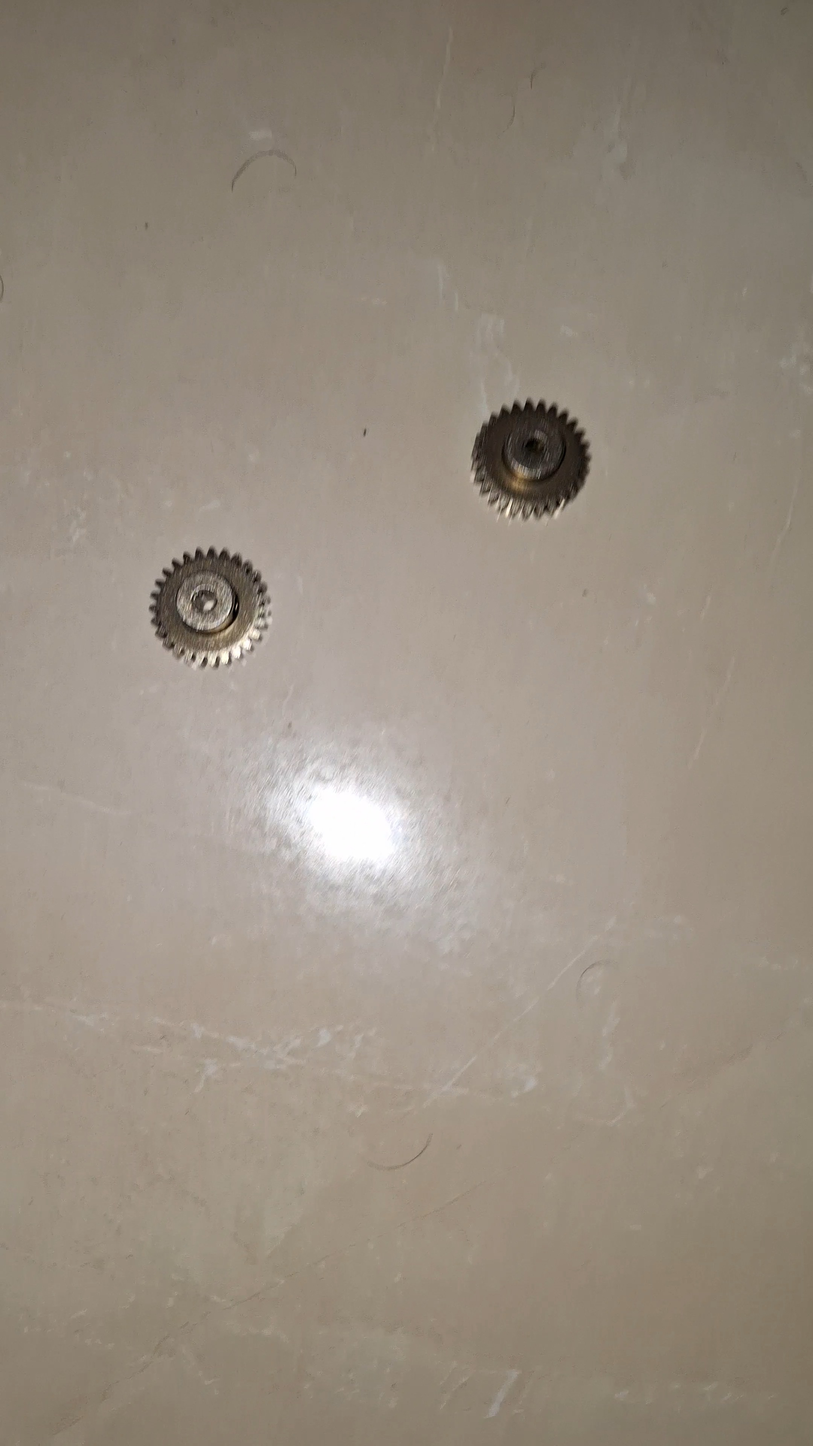spur gear: (151, 548, 269, 667), (472, 400, 589, 518)
